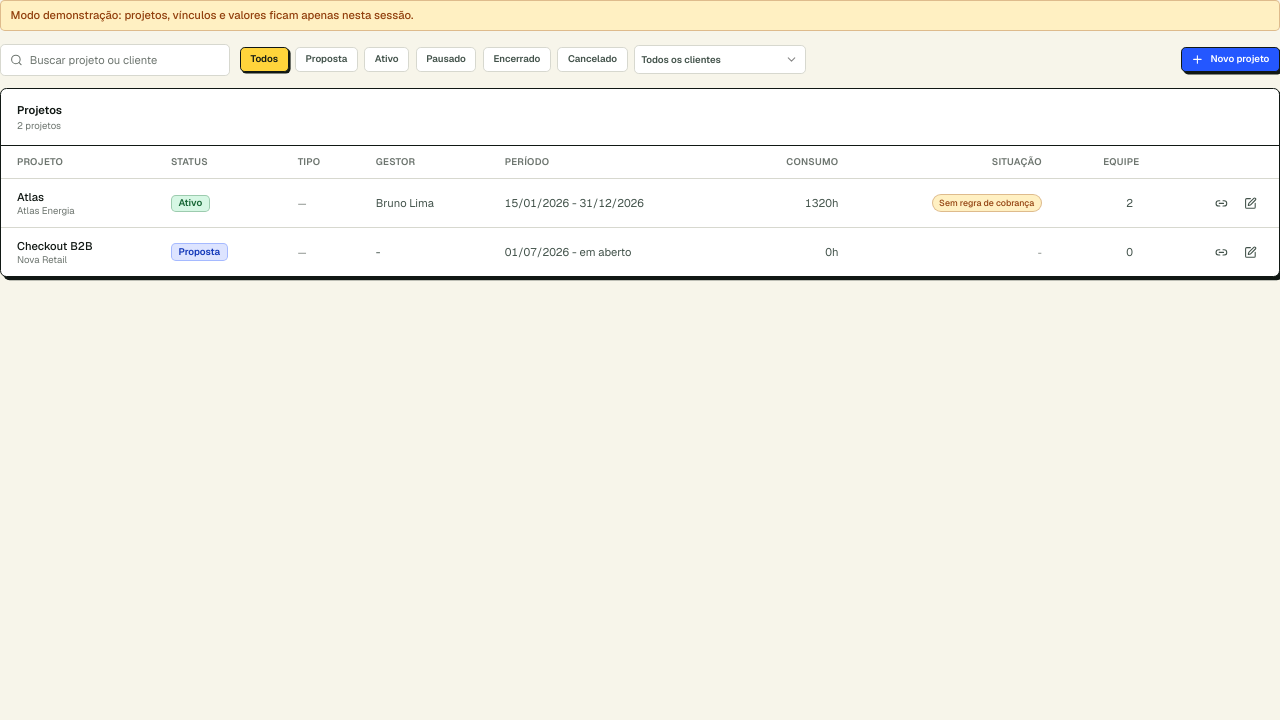
ProjectsView — subtelas do detalhe (matriz) › concedidas: mostra todos os chips do detalhe (padrão inalterado)
This screenshot has width=1280, height=720.
Click the button named "Vínculos e valores de Atlas": (1222, 203) [1209, 190, 1234, 216]
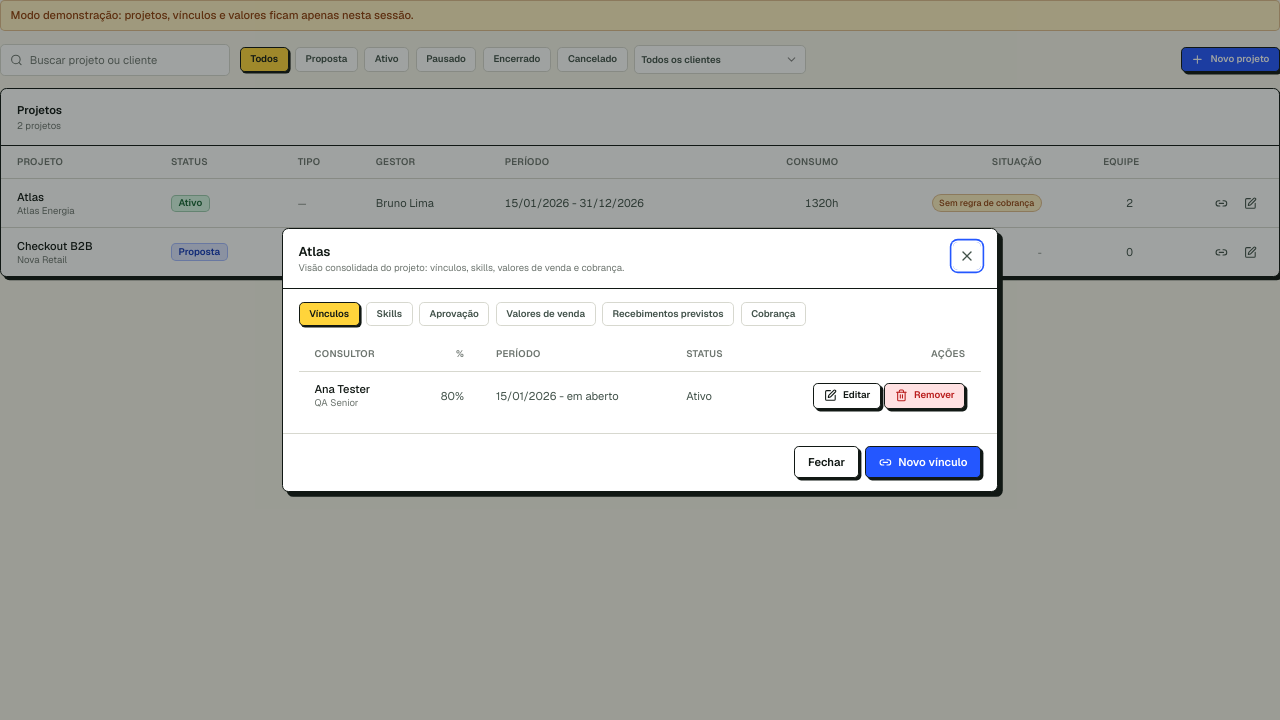
Now the button "Vínculos" is shown, box [299, 302, 360, 326]
Now the button "Skills" is shown, box [366, 302, 413, 326]
Now the button "Aprovação" is shown, box [419, 302, 489, 326]
